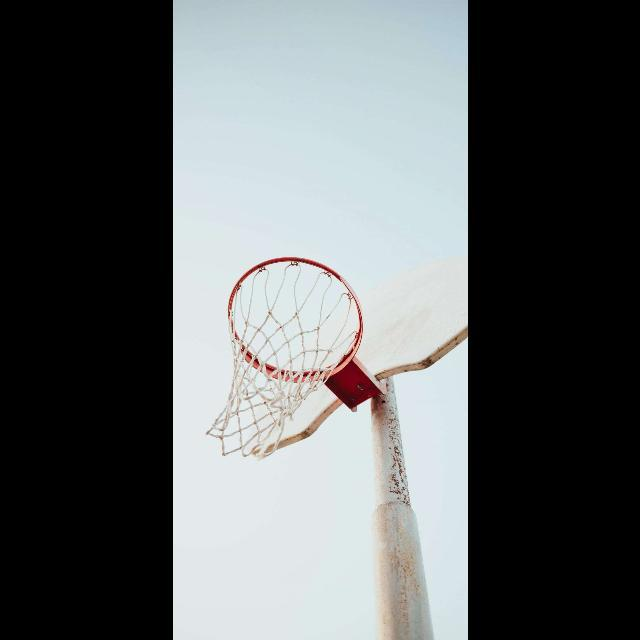rim: (204, 256, 364, 452)
